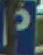Parking: (0, 0, 41, 52)
